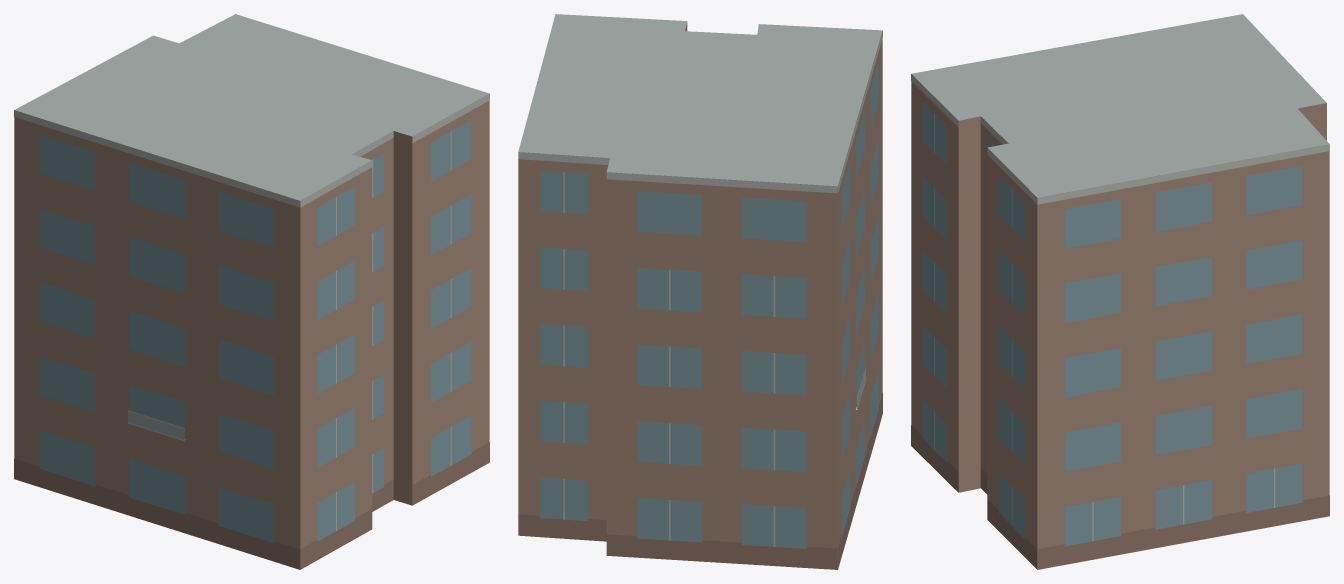
The model's file is survey-upis-32994737.glb.
The picture shows the model from 3 angles, left to right: view 1: azimuth 30°, elevation 25°; view 2: azimuth 150°, elevation 25°; view 3: azimuth 270°, elevation 25°; orthographic projection. The views are drawn at different scales.
Parts seen in each view (by area): view 1: survey-upis-32994737.tmp; view 2: survey-upis-32994737.tmp; view 3: survey-upis-32994737.tmp.
Boxes of the visible parts, <box> form: survey-upis-32994737.tmp: <box>14,14,489,569</box>; survey-upis-32994737.tmp: <box>518,14,882,569</box>; survey-upis-32994737.tmp: <box>911,14,1329,569</box>.
Bounding box in the file's own units: 13.99 × 13.2 × 13.47.
